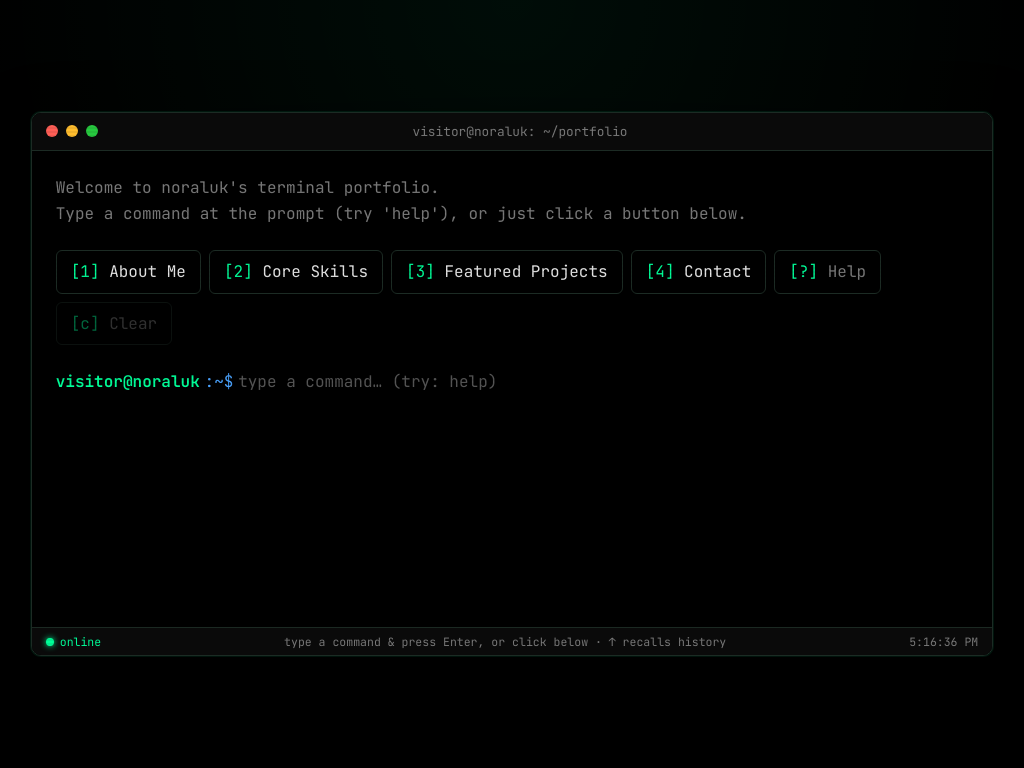
Terminal (reduced motion) › runs a text command from a menu click
The image size is (1024, 768).
Click the button "[1] About Me": (128, 272) x1=56 y1=250 x2=201 y2=294
(page scrolled)
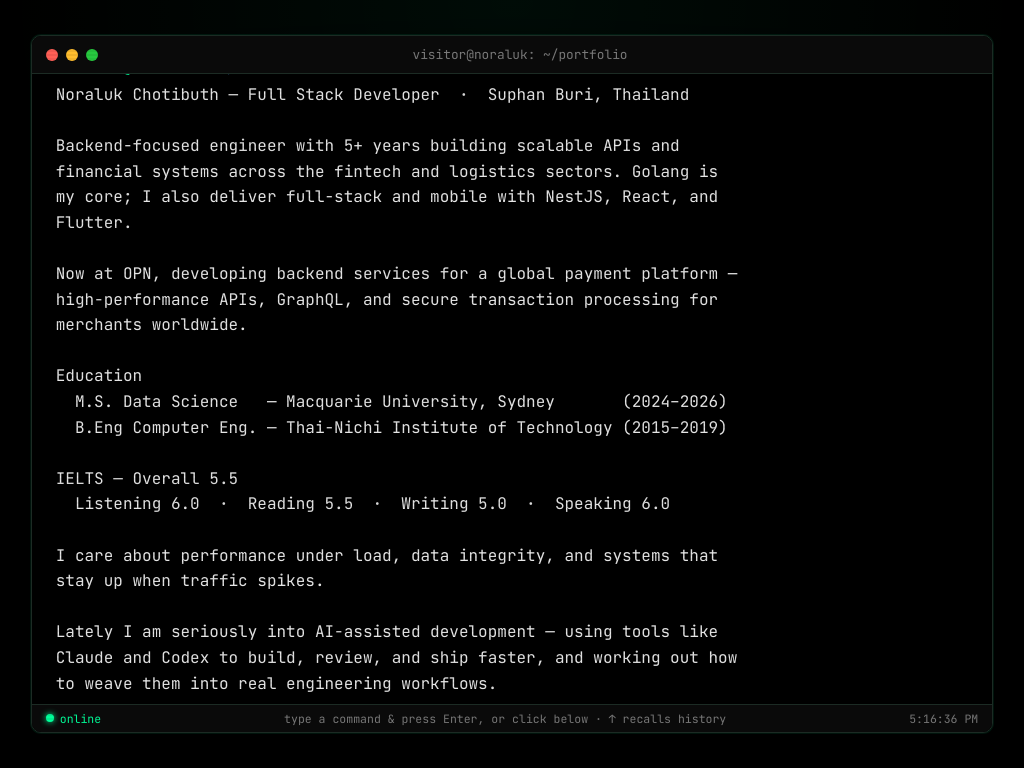
expect the text "Noraluk Chotibuth" is shown: met, box x1=56 y1=84 x2=737 y2=694
